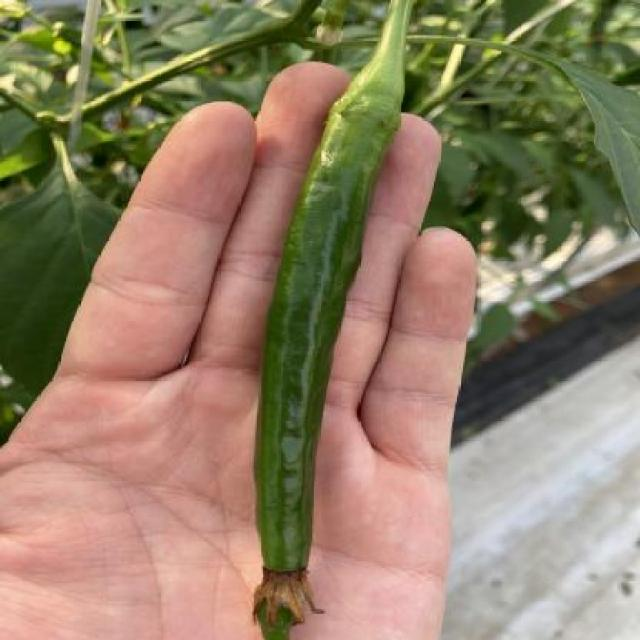green chilli: (252, 114, 397, 640)
